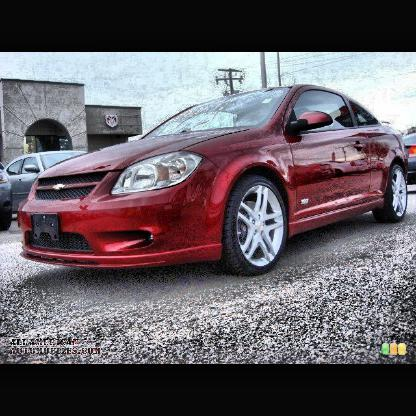Chevrolet Cobalt SS 2010: (19, 87, 409, 279)
